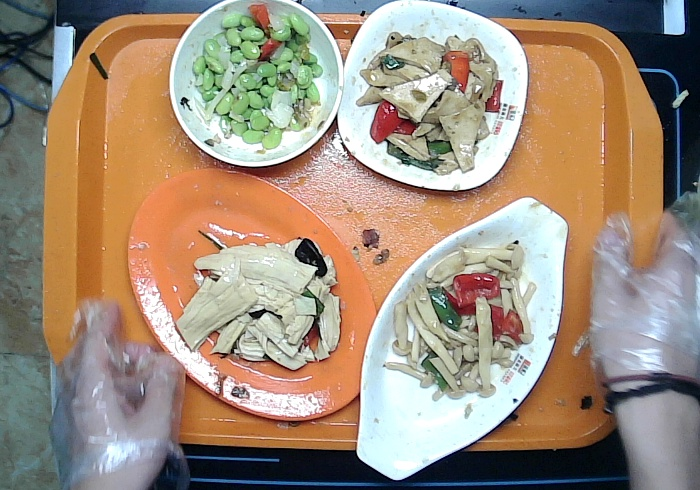NLDX-Bai_Se_Xiao_Fang_Die: (336, 1, 531, 193)
NLDX-Fan_Wan: (167, 1, 344, 170)
NLDX-Ju_Se_Pan: (124, 164, 379, 424)
NLDX-Yu_Pan: (354, 194, 569, 483)
